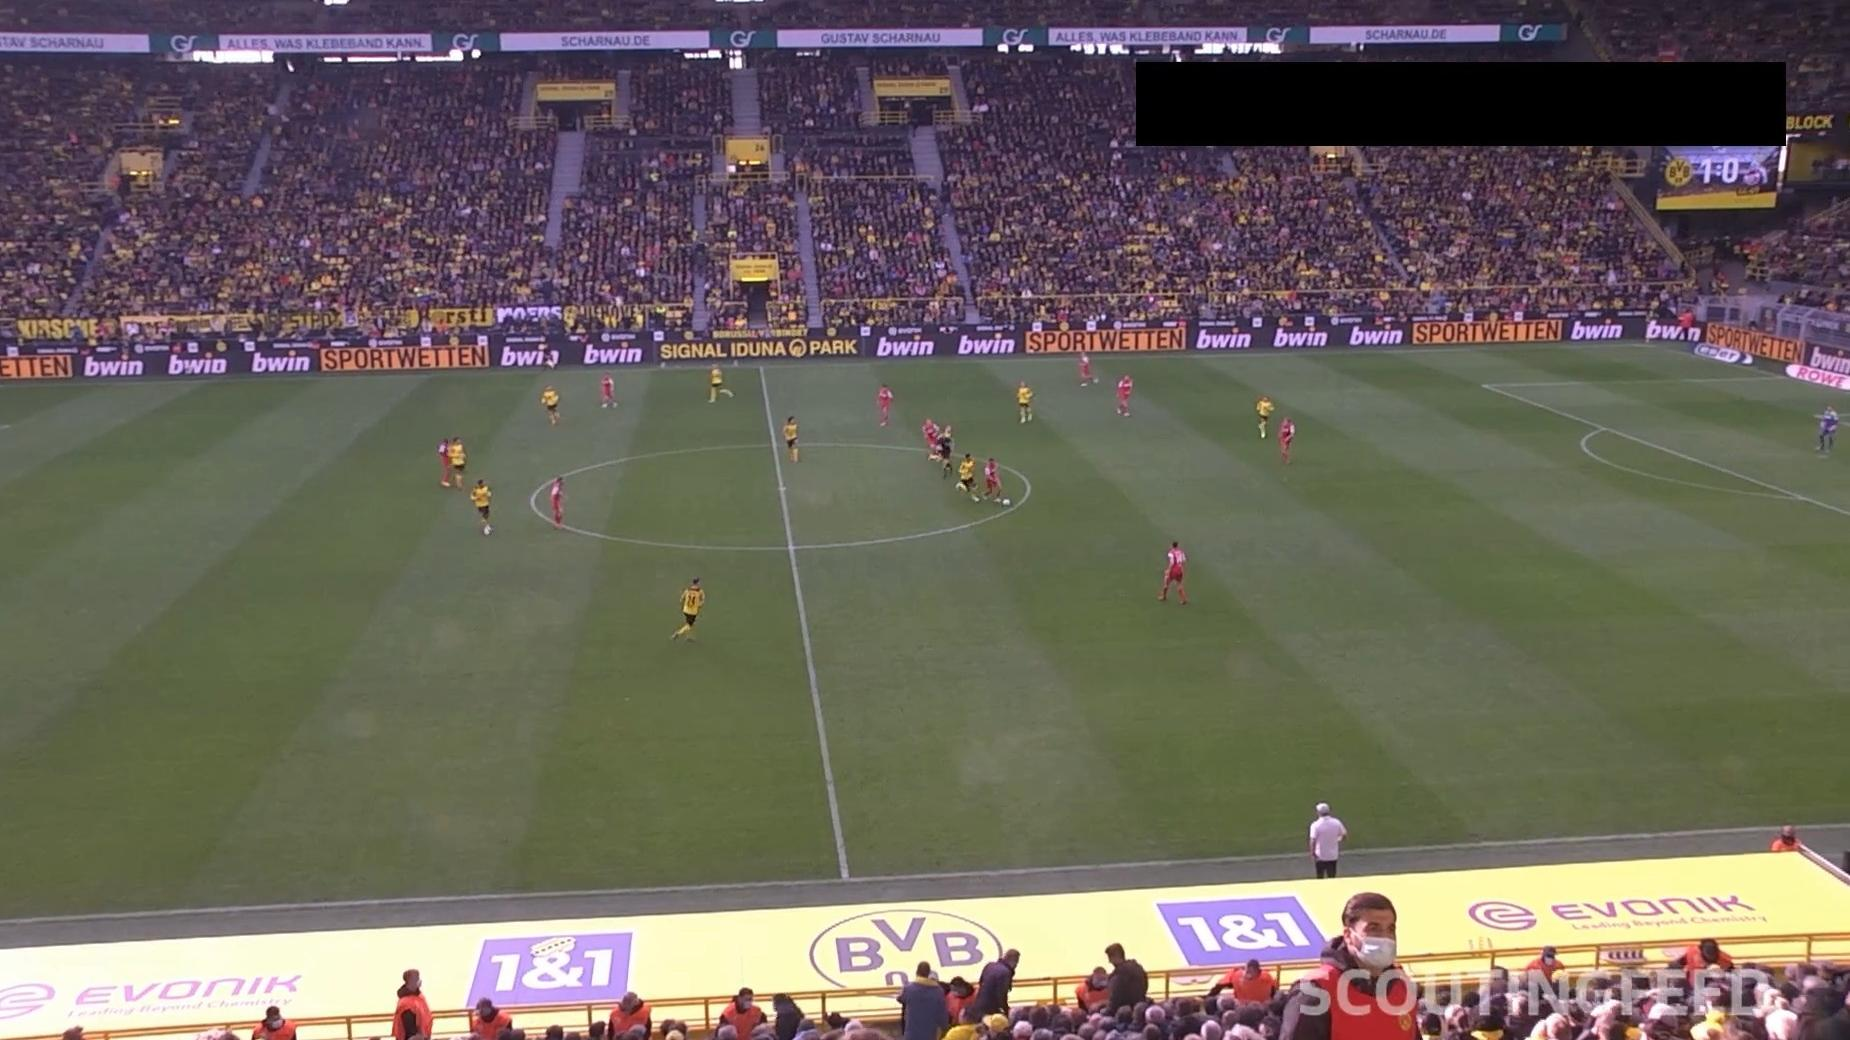ball: (1001, 498, 1011, 507)
